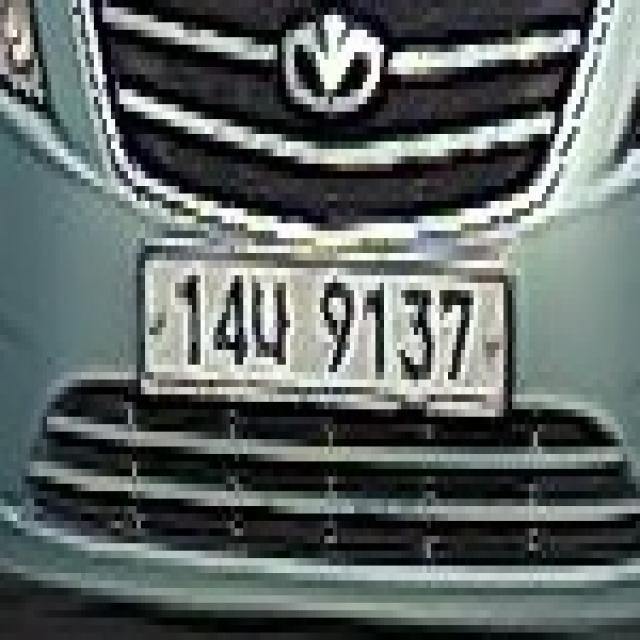1: (162, 260, 209, 387), (362, 276, 397, 394)
3: (397, 276, 439, 394)
4: (209, 260, 256, 380)
7: (436, 283, 486, 394)
9: (316, 268, 358, 387)
license_plate: (128, 238, 516, 432)
na: (247, 268, 303, 379)
